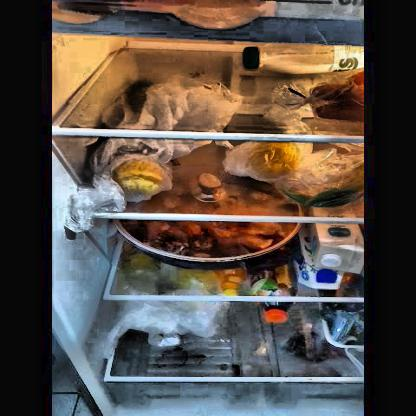broccoli: (325, 306, 361, 346)
carrot: (312, 80, 362, 118)
green_chillies: (285, 180, 364, 208)
lemon: (113, 158, 170, 197), (248, 141, 301, 177)
milk: (299, 224, 362, 287), (246, 40, 355, 74)
